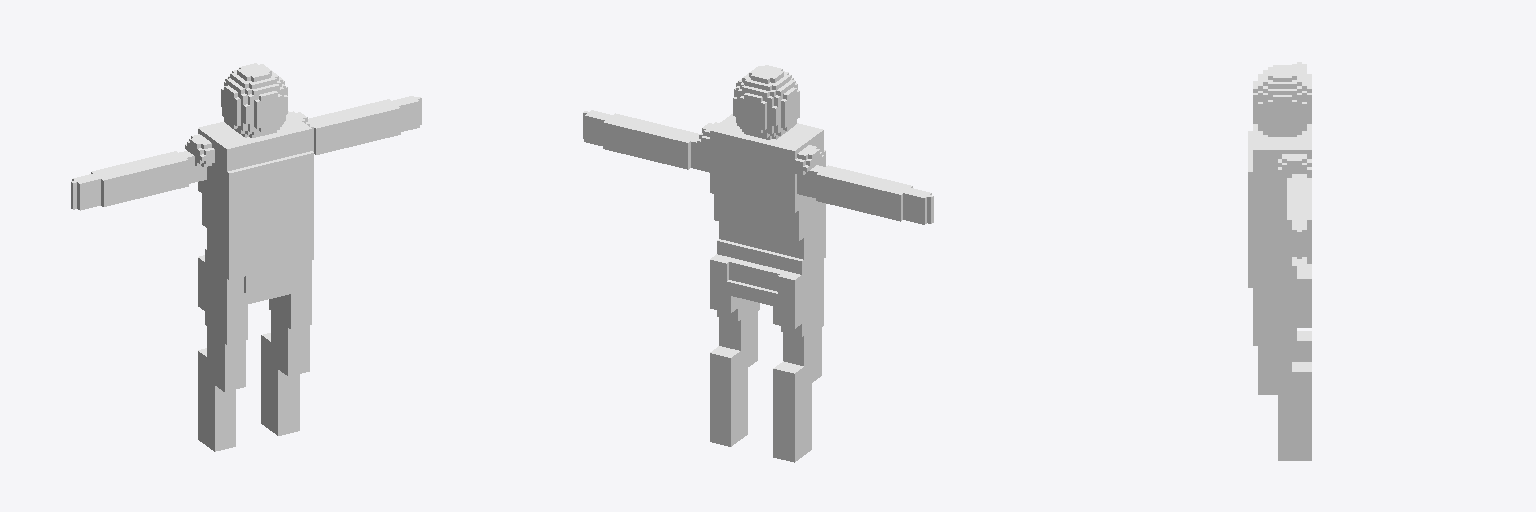
3 renders of one model, left to right at view 1: azimuth 30°, elevation 25°; view 2: azimuth 150°, elevation 25°; view 3: azimuth 270°, elevation 25°, orthographic.
Parts seen in each view (by area): view 1: Compound; view 2: Compound; view 3: Compound.
Boxes of the visible parts, x1,y1,x2,y2 form: Compound: [71, 63, 421, 451]; Compound: [583, 65, 933, 462]; Compound: [1248, 62, 1311, 460].
Bounding box in the file's own units: 82 × 83 × 13.
1 materials, 1 textured.